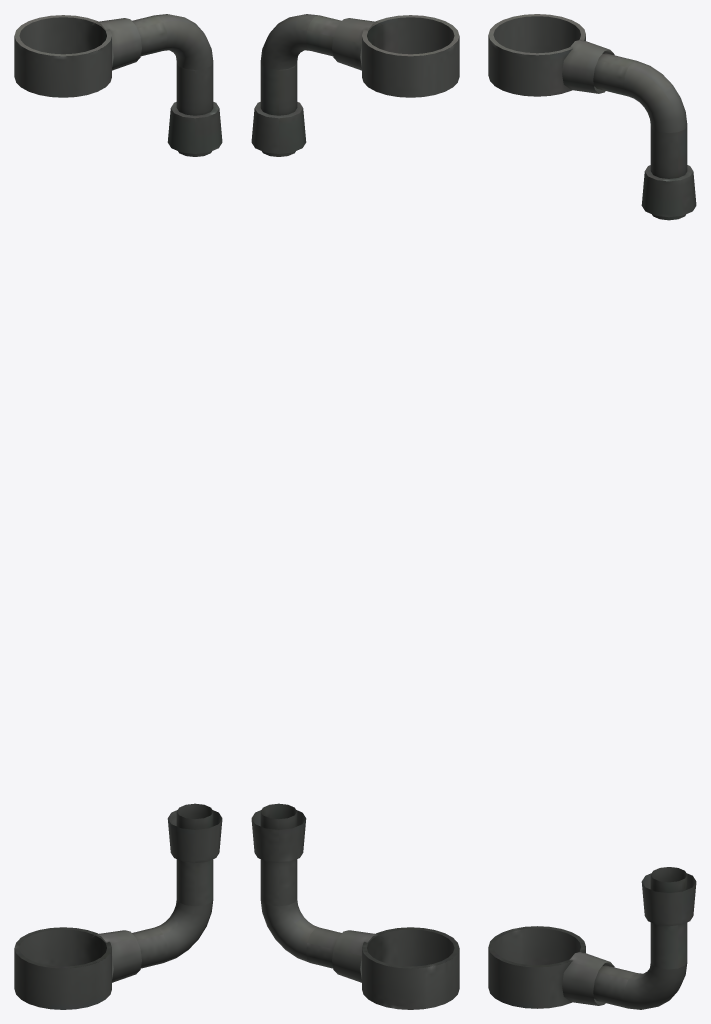
The model's file is frontMountPipe-v1.glb.
The picture shows the model from 3 angles, left to right: view 1: azimuth 30°, elevation 25°; view 2: azimuth 150°, elevation 25°; view 3: azimuth 330°, elevation 25°; orthographic projection.
Visible parts, largest first — view 1: frontMountPipe-v1; view 2: frontMountPipe-v1; view 3: frontMountPipe-v1.
Boxes of the visible parts, left/top/right/bottom form: frontMountPipe-v1: left=14, top=14, right=222, bottom=1009; frontMountPipe-v1: left=251, top=14, right=459, bottom=1009; frontMountPipe-v1: left=488, top=14, right=696, bottom=1009.
Bounding box in the file's own units: 0.3001 × 1.39 × 0.1283.
1 material, 1 textured.
